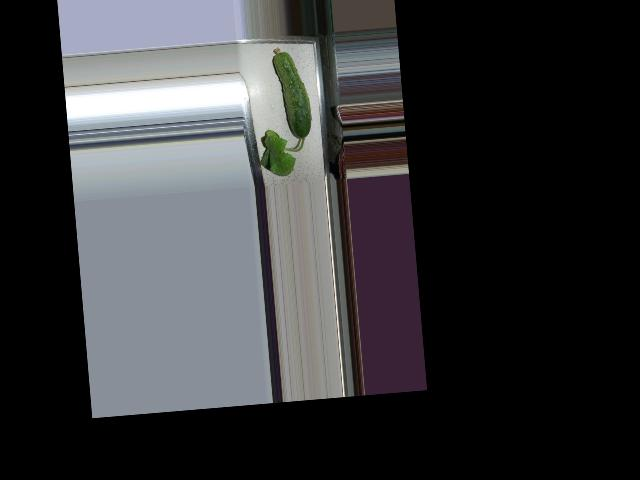cucumber: (271, 45, 313, 141)
